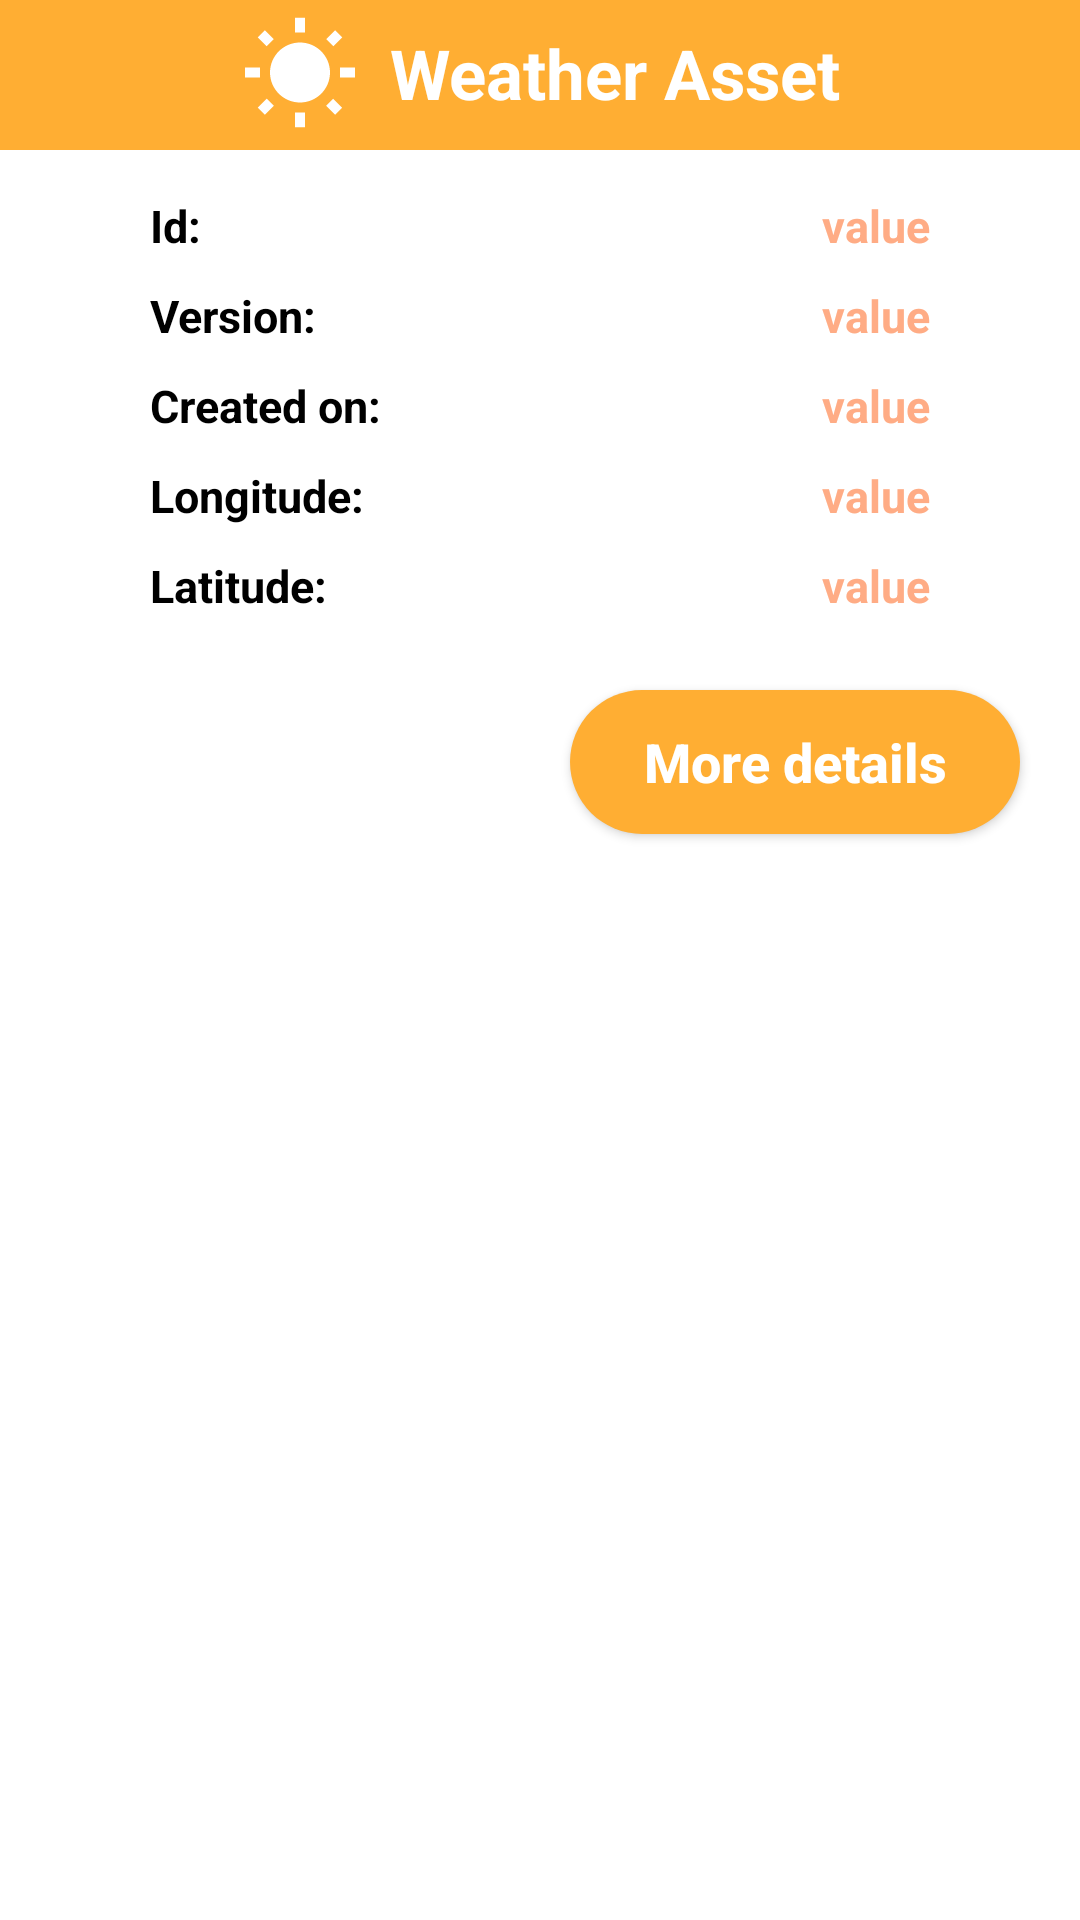

Where icons sit on this 1080×1920 app screen, as (x1, y1, x2, y2):
sunny: (245, 17, 355, 128)
